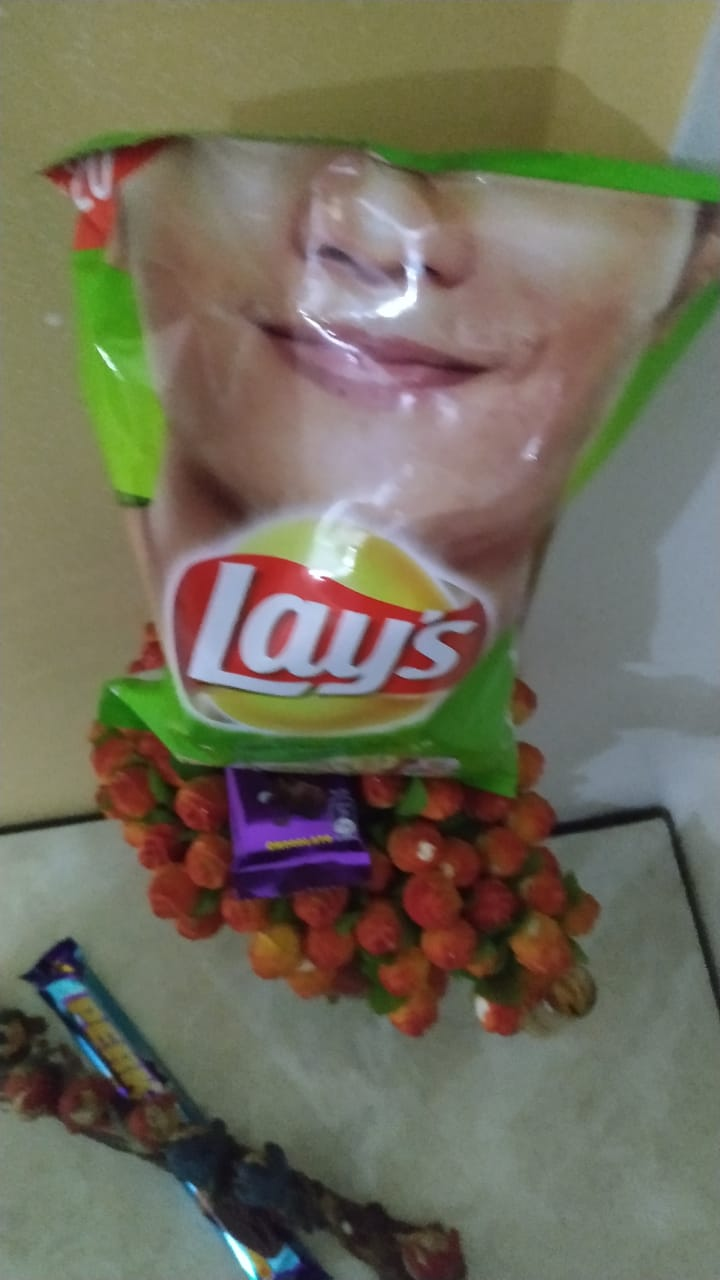lays chips: (56, 108, 682, 782)
perk: (21, 931, 313, 1280)
